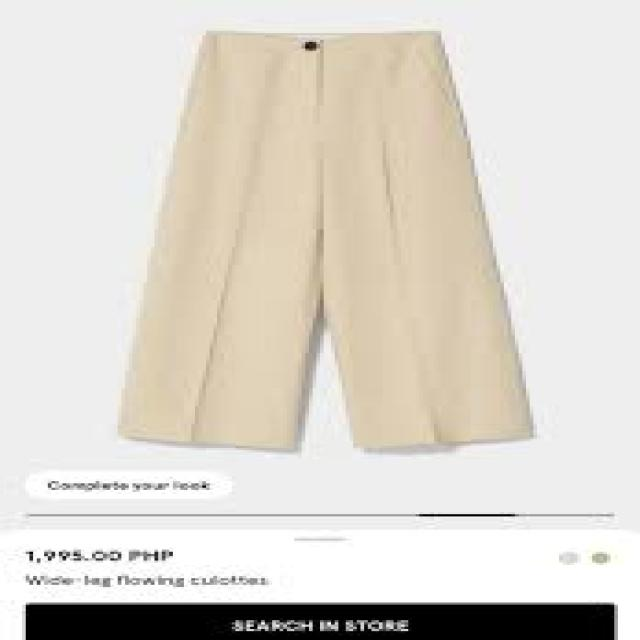long-pants: (122, 29, 536, 454)
